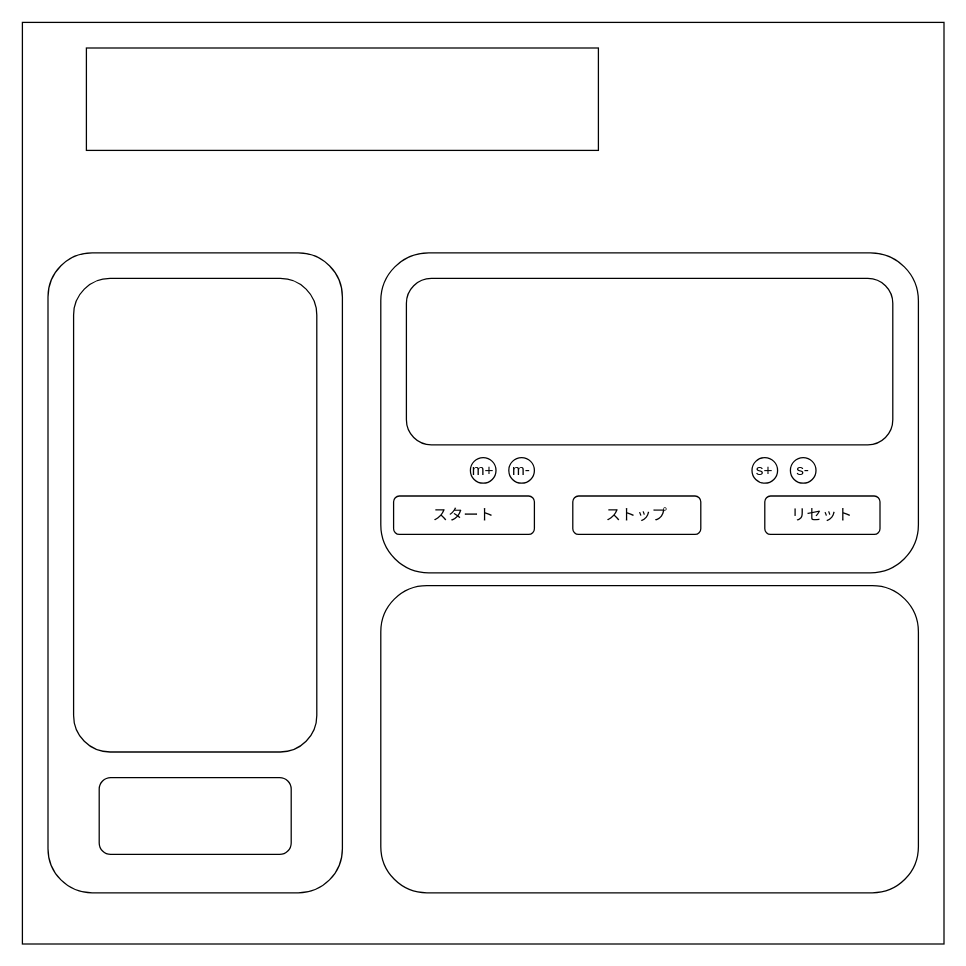
Some shapes in this 966 by 966 pixel diagram are drawn without their labels. The shapes that lost their labels are listed below. From the top down, each one's box as (x1, y1, x2, y2) in pixels, then its label:
(85, 47, 598, 150): タイトル
(405, 277, 893, 445): mm : ss
(72, 277, 317, 752): 発表順リスト
(98, 776, 291, 854): リスト作成ボタン
